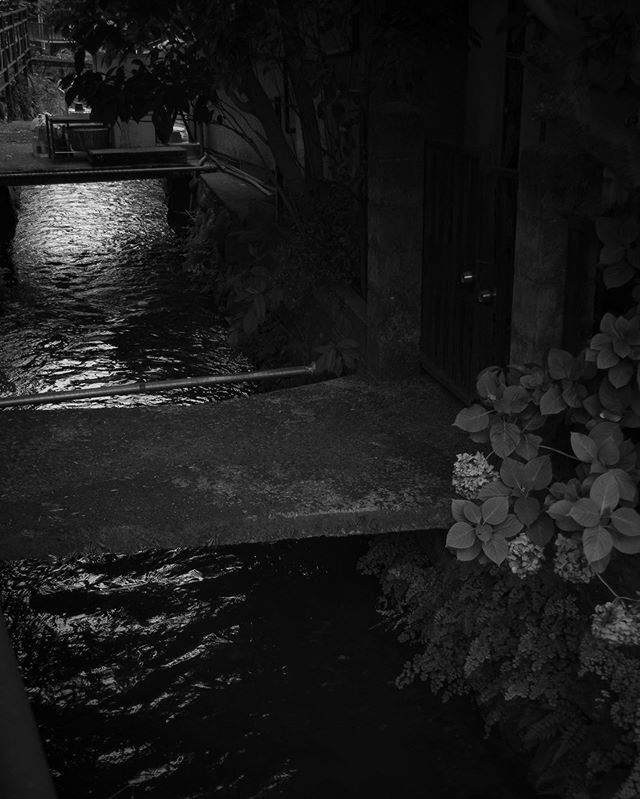bridge: (1, 354, 500, 610), (1, 110, 210, 214)
river: (19, 104, 450, 799)
